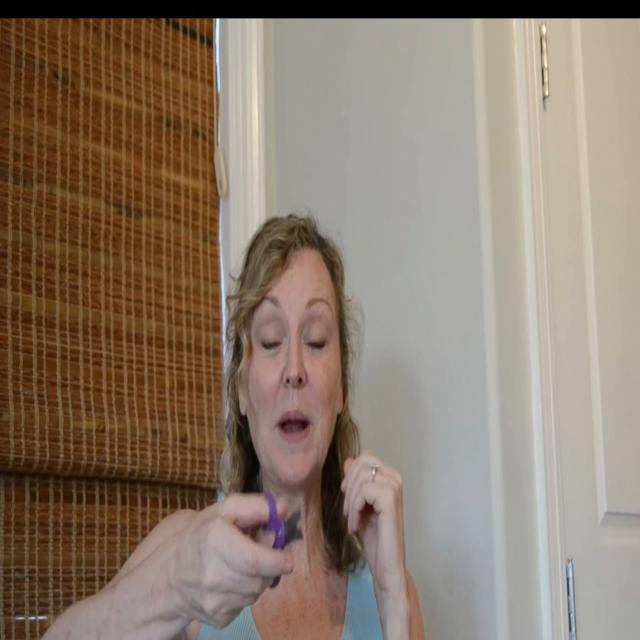scissor: (263, 492, 301, 589)
